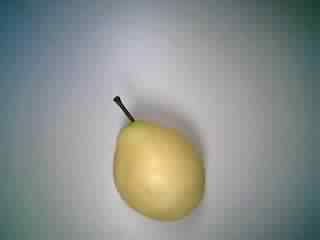pear: (97, 90, 212, 224)
